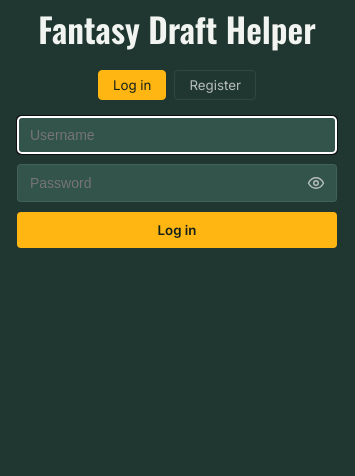
Test case: LoginForm › doesn't register when the passwords don't match
Click the button "Register": click(215, 85) [174,70,256,100]
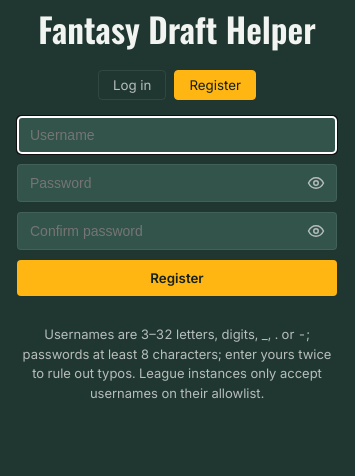
In the field with placeholder "Username": (177, 135) [17,116,337,154], type "testuser"
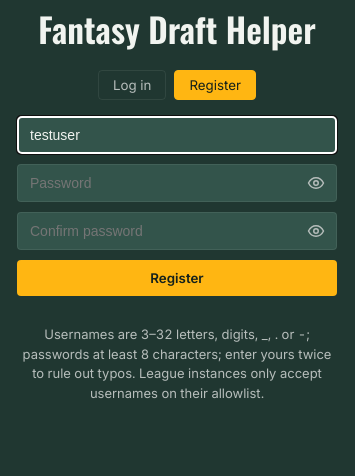
In the password field labelled "Password": (177, 183) [17,164,337,202], type "password123"
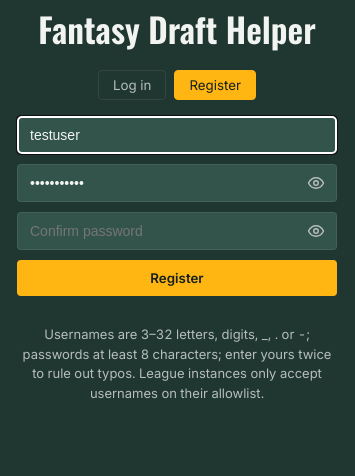
In the password field labelled "Confirm password": (177, 231) [17,212,337,250], type "password124"
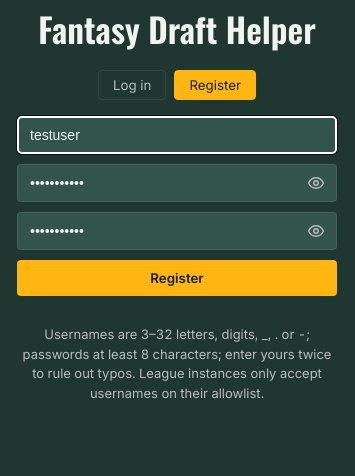
Submit the form named "Password", box [17,116,337,296]
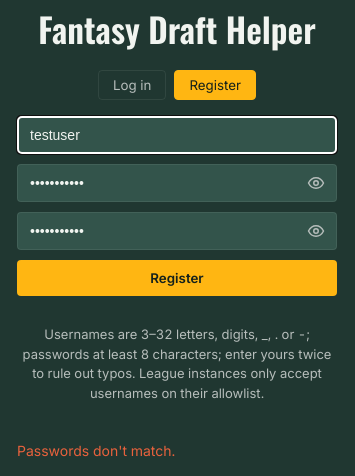
Check: the message reads "Passwords don't match.", box [17,442,175,459]
